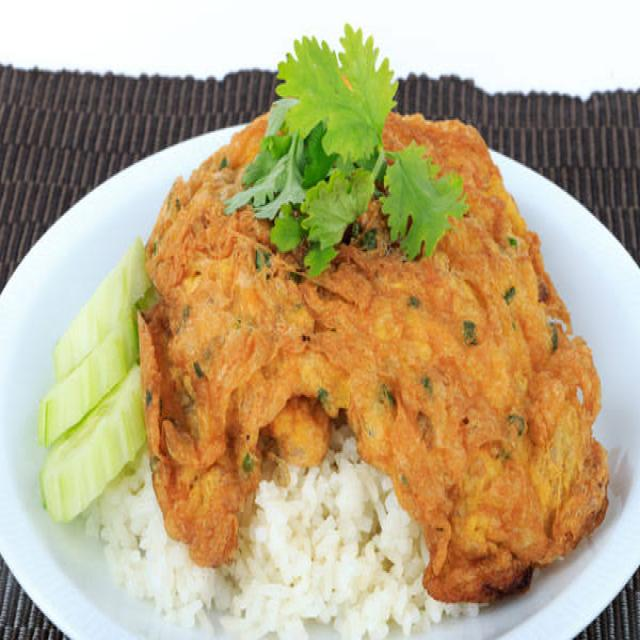carb: (107, 480, 450, 638)
meat: (166, 118, 580, 524)
omelette rice: (110, 34, 610, 614)
vegetable: (254, 40, 420, 256)
